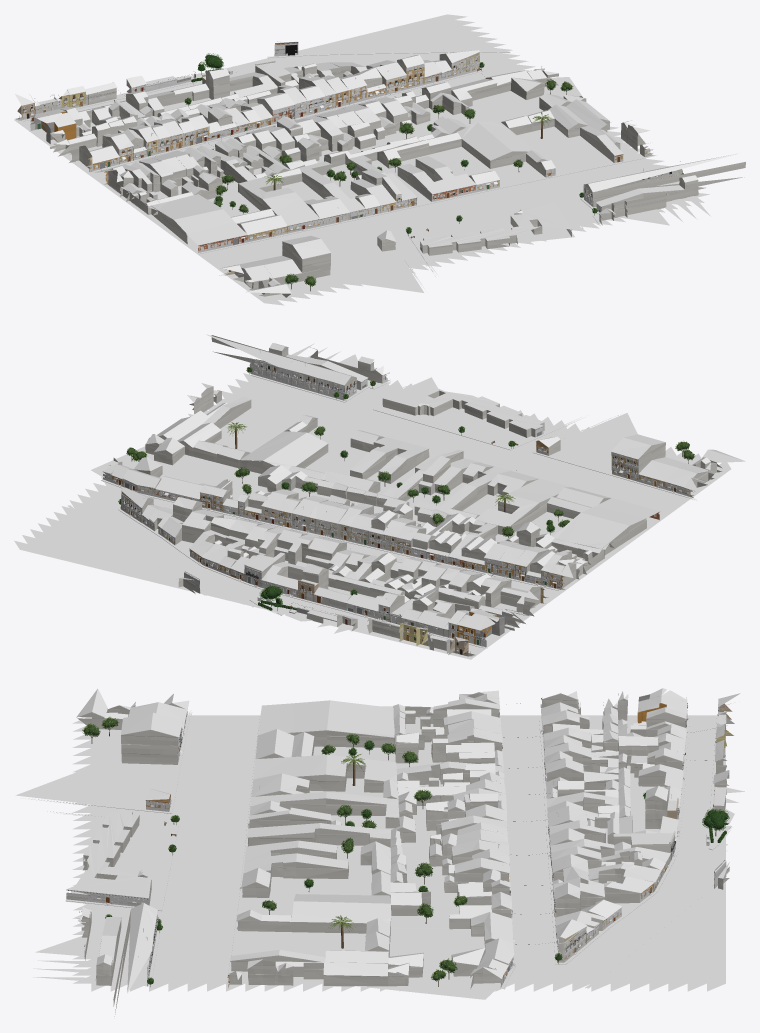
The model's file is zona_3_-2.glb.
3 views of the same model, one above another, from view 1: azimuth 30°, elevation 25°; view 2: azimuth 150°, elevation 25°; view 3: azimuth 270°, elevation 25° (orthographic). The views are drawn at different scales.
Parts seen in each view (by area): view 1: z_tejados_3_-2, z_calle_3_-2, z_casas_3_-2, z_fachadas_3_-2, z_casas_planas_3_-2, z_arboles_3_-2, z_suelo_3_-2, z_detalles_pueblo_3_-2; view 2: z_tejados_3_-2, z_calle_3_-2, z_casas_3_-2, z_fachadas_3_-2, z_casas_planas_3_-2, z_arboles_3_-2, z_suelo_3_-2, z_detalles_pueblo_3_-2; view 3: z_calle_3_-2, z_tejados_3_-2, z_casas_3_-2, z_suelo_3_-2, z_casas_planas_3_-2, z_arboles_3_-2, z_fachadas_3_-2.
Boxes of the visible parts, x1,y1,x2,y2 form: z_tejados_3_-2: [15, 41, 740, 293]; z_calle_3_-2: [14, 14, 710, 305]; z_casas_3_-2: [17, 52, 745, 297]; z_fachadas_3_-2: [18, 41, 678, 273]; z_casas_planas_3_-2: [14, 43, 635, 255]; z_arboles_3_-2: [184, 53, 683, 291]; z_suelo_3_-2: [20, 55, 597, 269]; z_detalles_pueblo_3_-2: [21, 50, 651, 252]; z_tejados_3_-2: [102, 334, 745, 641]; z_calle_3_-2: [14, 343, 731, 659]; z_casas_3_-2: [104, 335, 722, 656]; z_fachadas_3_-2: [103, 359, 693, 656]; z_casas_planas_3_-2: [184, 377, 588, 656]; z_arboles_3_-2: [118, 367, 695, 610]; z_suelo_3_-2: [153, 383, 583, 656]; z_detalles_pueblo_3_-2: [111, 372, 665, 645]; z_calle_3_-2: [15, 711, 744, 999]; z_tejados_3_-2: [76, 688, 740, 993]; z_casas_3_-2: [77, 692, 734, 1016]; z_suelo_3_-2: [82, 703, 727, 964]; z_casas_planas_3_-2: [66, 707, 726, 985]; z_arboles_3_-2: [82, 717, 729, 986]; z_fachadas_3_-2: [66, 697, 725, 987].
Bounding box in the file's own units: 232 × 12.19 × 228.
